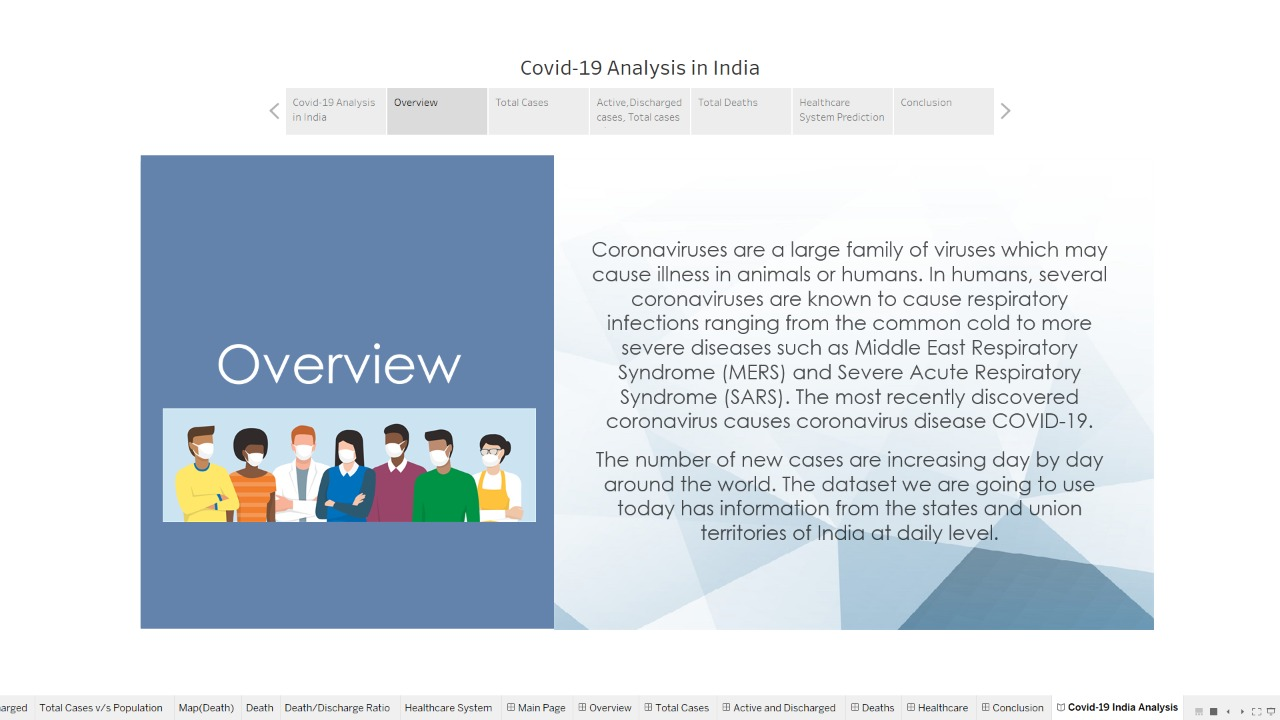

Layout of this report page (visuals, bound fields, positions):
{"tool":"tableau","page":{"name":"Overview","canvas":[1500,700],"ordinal":5},"visuals":[{"type":"text","box":[667.5,39,792.9,614]},{"type":"text","box":[110.4,255,402.9,96]},{"type":"image","param":"Image/covid-header-2.png","box":[34.3,370,560.4,184]}]}

Visuals, with their boxes on the page's 1500x700 design canvas (x1, y1, x2, y2). These are canvas units, not pixel positions in the 1280x720 screenshot, which may show the page scaled, cropped or inside an application window:
text: bbox(668, 39, 1460, 653)
text: bbox(110, 255, 513, 351)
image: bbox(34, 370, 595, 554)
